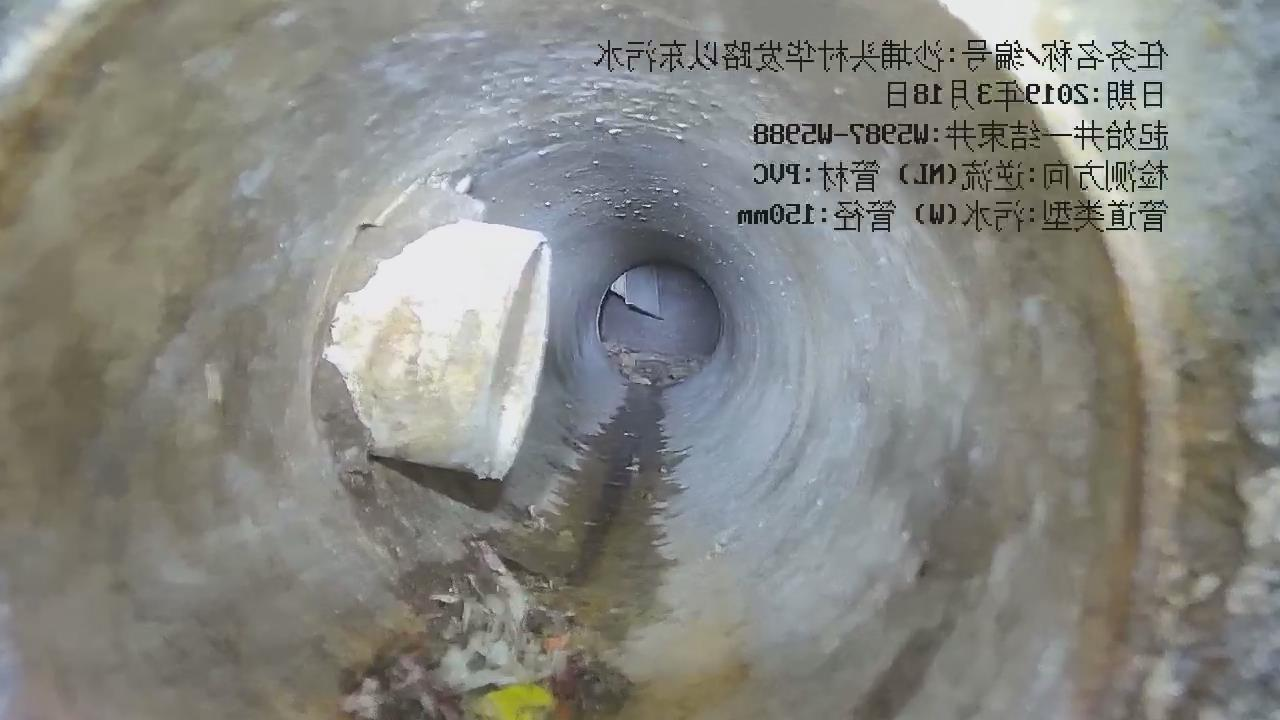CJ: (348, 541, 594, 719)
ZGAJ: (324, 220, 550, 479)
